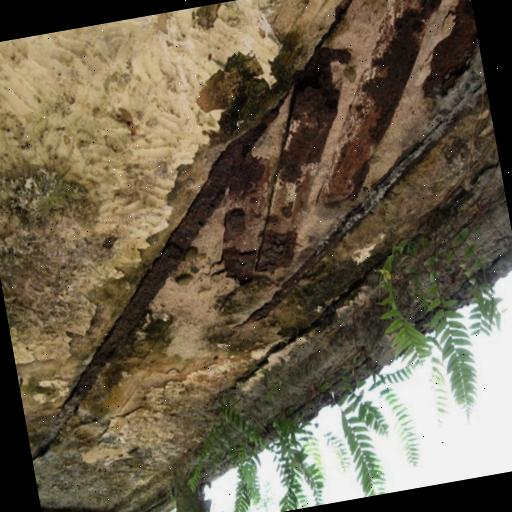spalling: (34, 0, 504, 510)
